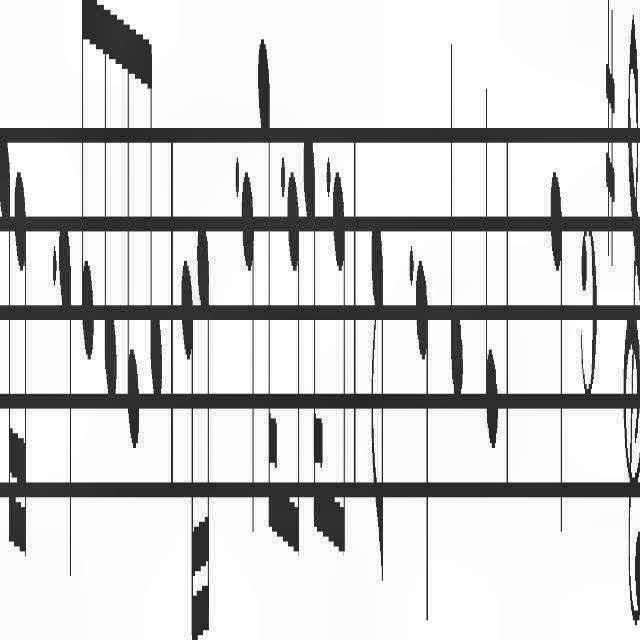Bass-clef: (623, 4, 640, 639), (639, 4, 640, 639)
Diez: (604, 0, 616, 272)
Eighth-note: (146, 34, 164, 416), (286, 163, 302, 573), (127, 0, 141, 458), (370, 213, 386, 592), (104, 0, 118, 404), (332, 167, 346, 567), (82, 0, 95, 384)
Quarter-note: (484, 59, 500, 469), (548, 164, 564, 560), (414, 256, 430, 640), (242, 167, 258, 546), (449, 22, 463, 434), (59, 213, 73, 592)
Sixteenth-note: (257, 34, 277, 570), (302, 130, 322, 548), (14, 166, 31, 582), (196, 216, 212, 638), (180, 256, 196, 638), (0, 123, 12, 576)
